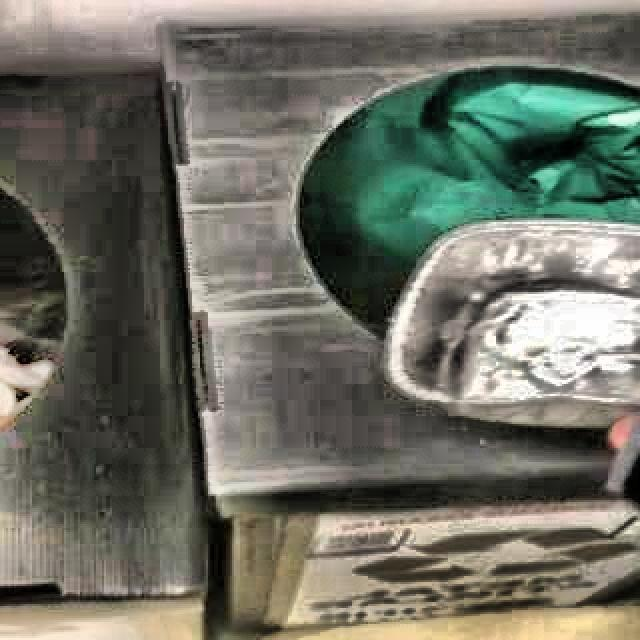metal: (384, 220, 640, 428)
